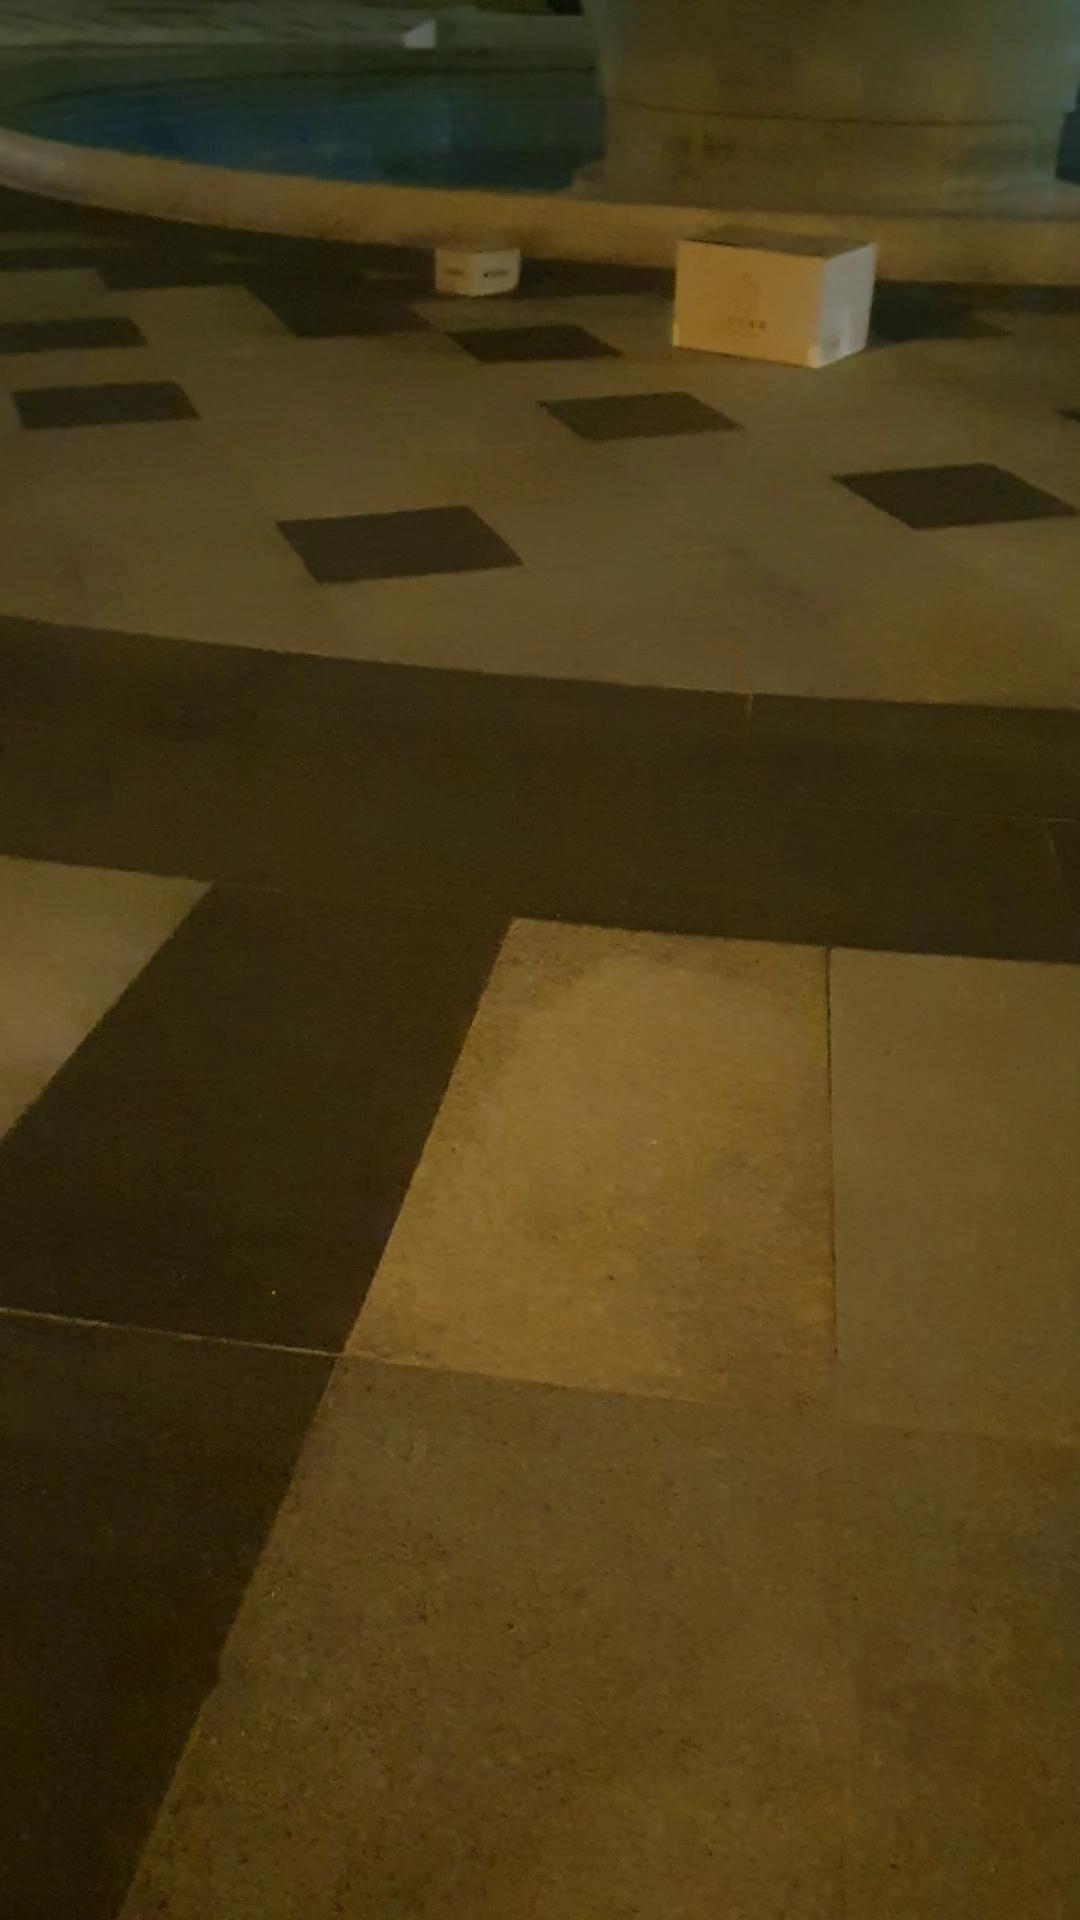Box: (666, 218, 877, 371), (433, 210, 531, 314)
